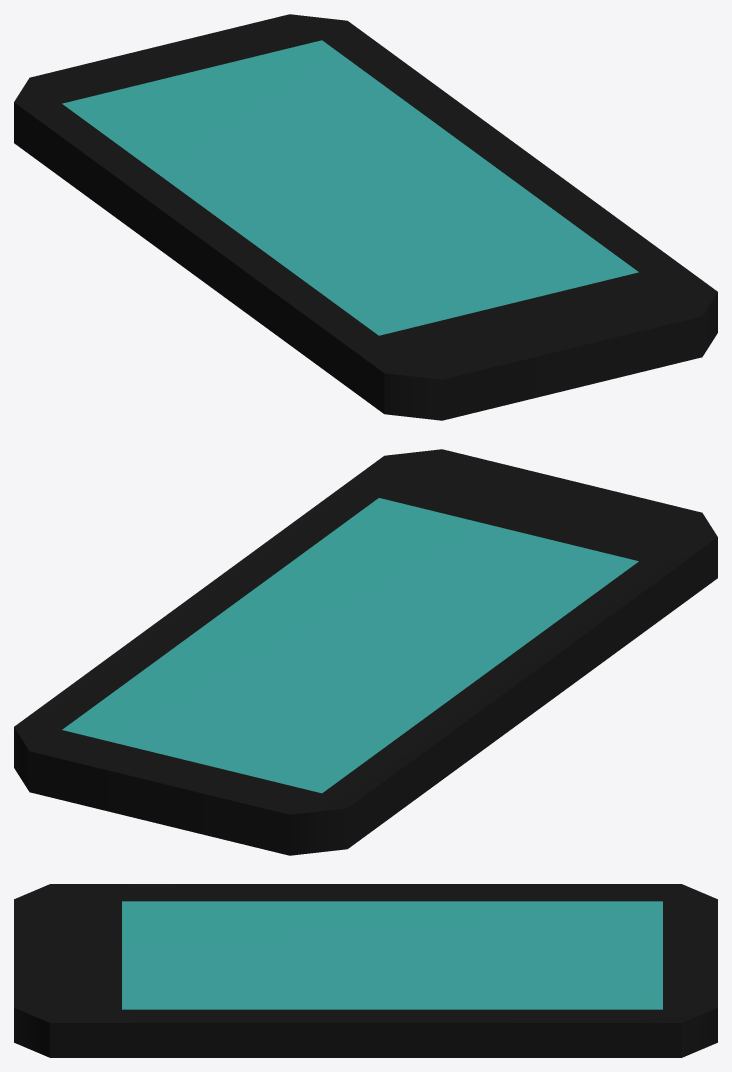
Rendered from md_phone.fbx.
3 renders of one model, top to bottom at view 1: azimuth 30°, elevation 25°; view 2: azimuth 150°, elevation 25°; view 3: azimuth 270°, elevation 25°, orthographic. The views are drawn at different scales.
Visible parts, largest first — view 1: pCube1; view 2: pCube1; view 3: pCube1.
Part boxes in pixels (box(x1,y1,x2,y2)): pCube1: box(14, 14, 717, 420); pCube1: box(14, 449, 717, 855); pCube1: box(14, 884, 717, 1057).
Size of the model in its own units: 0.1415 by 0.0166 by 0.3032.
